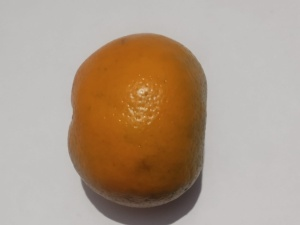BAD: (66, 31, 209, 209)
